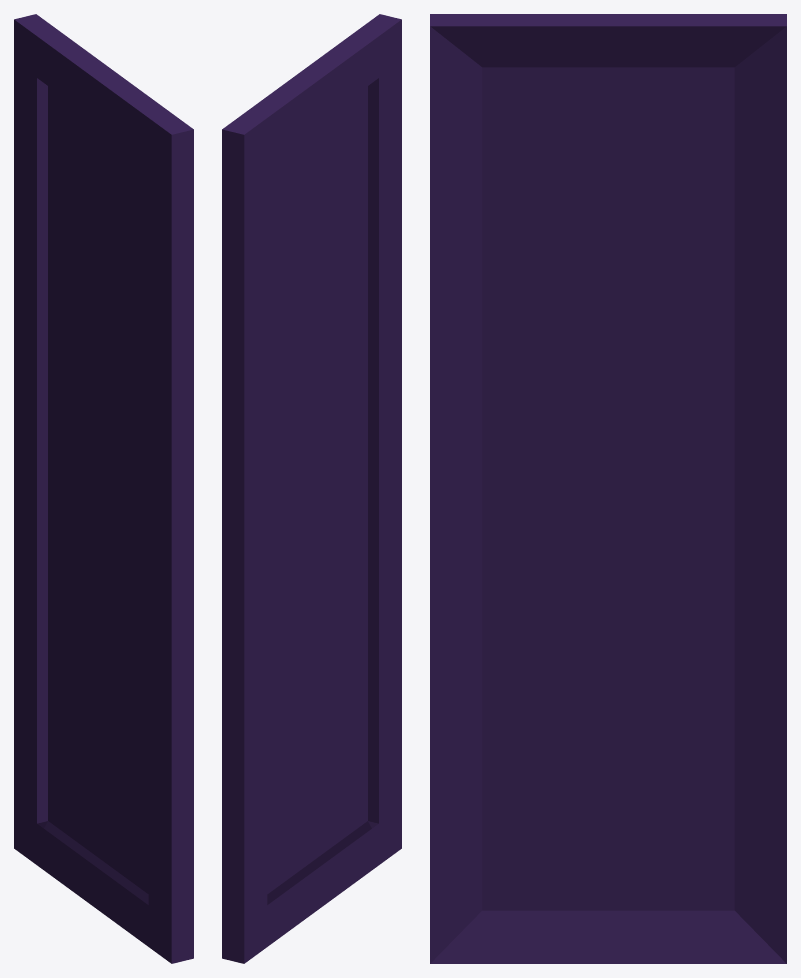
File: DOOR.fbx
3 renders of one model, left to right at view 1: azimuth 30°, elevation 25°; view 2: azimuth 150°, elevation 25°; view 3: azimuth 270°, elevation 25°, orthographic. The views are drawn at different scales.
Parts seen in each view (by area): view 1: door; view 2: door; view 3: door.
Part boxes in pixels (x1=…): door: x1=14, y1=14, x2=193, y2=963; door: x1=222, y1=14, x2=401, y2=963; door: x1=430, y1=14, x2=786, y2=963.
Size of the model in its own units: 20 by 715 by 247.
Materials: 1 (1 with a texture image).
